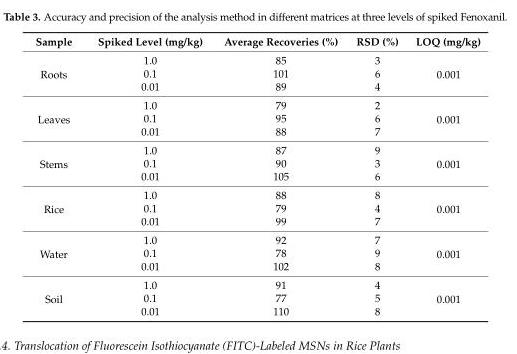table: (34, 34, 480, 317)
table column: (212, 34, 346, 317), (84, 34, 212, 317), (406, 34, 480, 317), (346, 34, 406, 317), (34, 34, 84, 317)
table column header: (34, 34, 480, 50)
table row: (34, 34, 480, 50), (34, 50, 480, 66), (34, 79, 480, 95), (34, 95, 480, 111), (34, 124, 480, 140), (34, 140, 480, 156), (34, 169, 480, 185), (34, 185, 480, 201), (34, 214, 480, 230), (34, 230, 480, 246), (34, 259, 480, 275), (34, 275, 480, 291), (34, 66, 480, 79), (34, 111, 480, 124), (34, 156, 480, 169), (34, 201, 480, 214), (34, 246, 480, 259), (34, 291, 480, 304), (34, 304, 480, 317)
table spanning cell: (406, 50, 480, 95), (406, 95, 480, 140), (406, 140, 480, 185), (406, 185, 480, 230), (406, 230, 480, 275), (406, 275, 480, 317), (34, 50, 84, 95), (34, 95, 84, 140), (34, 140, 84, 185), (34, 185, 84, 230), (34, 230, 84, 275), (34, 275, 84, 317)
